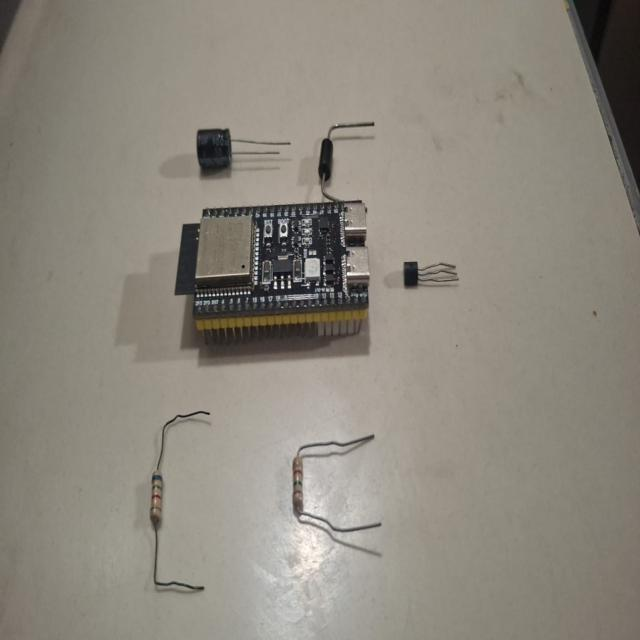Capacitor: (194, 127, 291, 180)
Diodo: (318, 121, 374, 201)
ESP32: (175, 201, 370, 342)
Resistencia: (149, 410, 210, 592), (292, 434, 381, 533)
Transistor: (401, 259, 460, 290)
